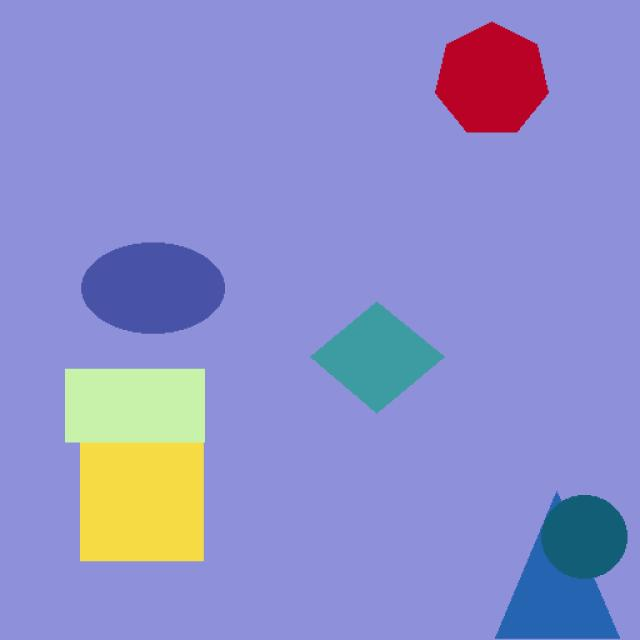Circle: (542, 483, 629, 589)
Heptagon: (434, 6, 566, 161)
Kite: (286, 294, 463, 418)
Oval: (74, 236, 252, 345)
Rectangle: (53, 356, 232, 460)
Triangle: (478, 476, 622, 640)
square: (64, 426, 224, 567)
